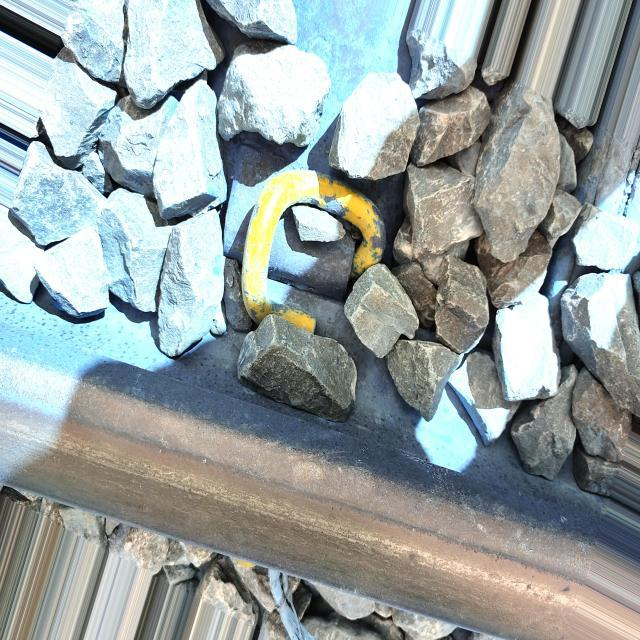Good Fasteners: (213, 148, 411, 341)
